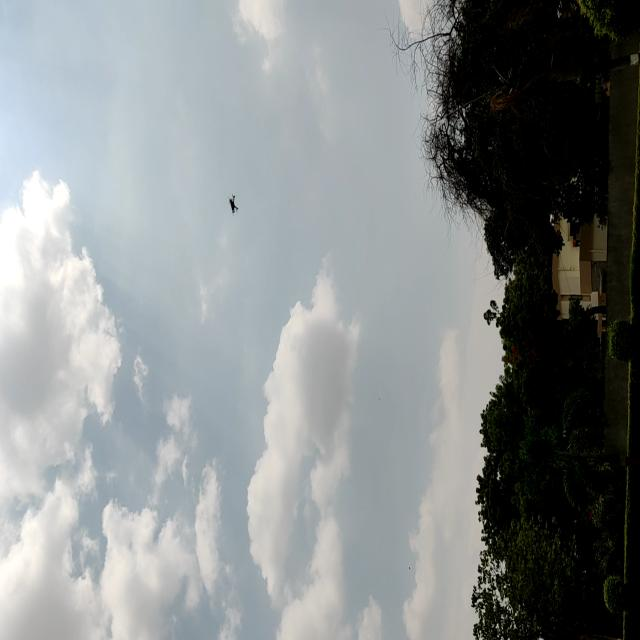drone: (225, 190, 242, 217)
